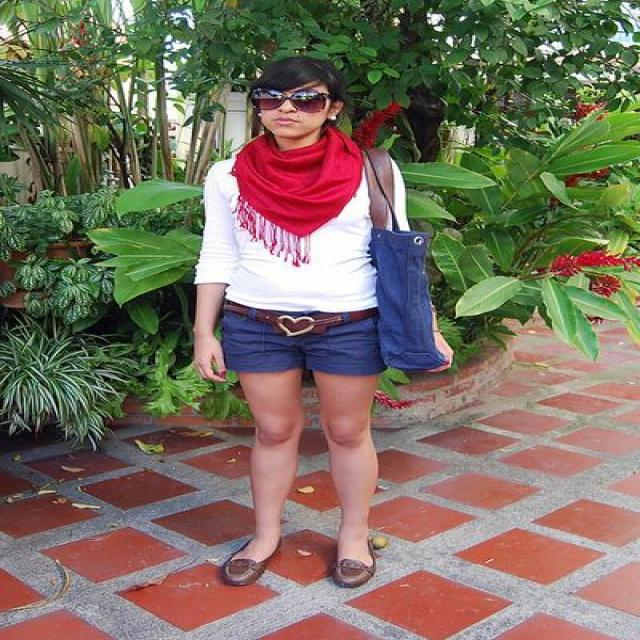bag: (354, 131, 442, 369)
shirt: (195, 152, 410, 312)
shoe: (218, 552, 366, 588)
shorts: (212, 322, 402, 386)
sunglass: (230, 77, 340, 114)
